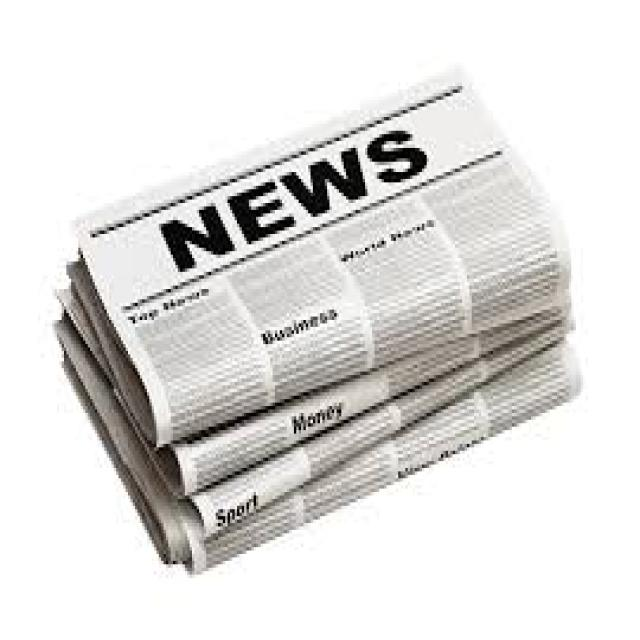paper: (69, 58, 567, 451), (48, 334, 579, 575), (50, 282, 590, 496)
